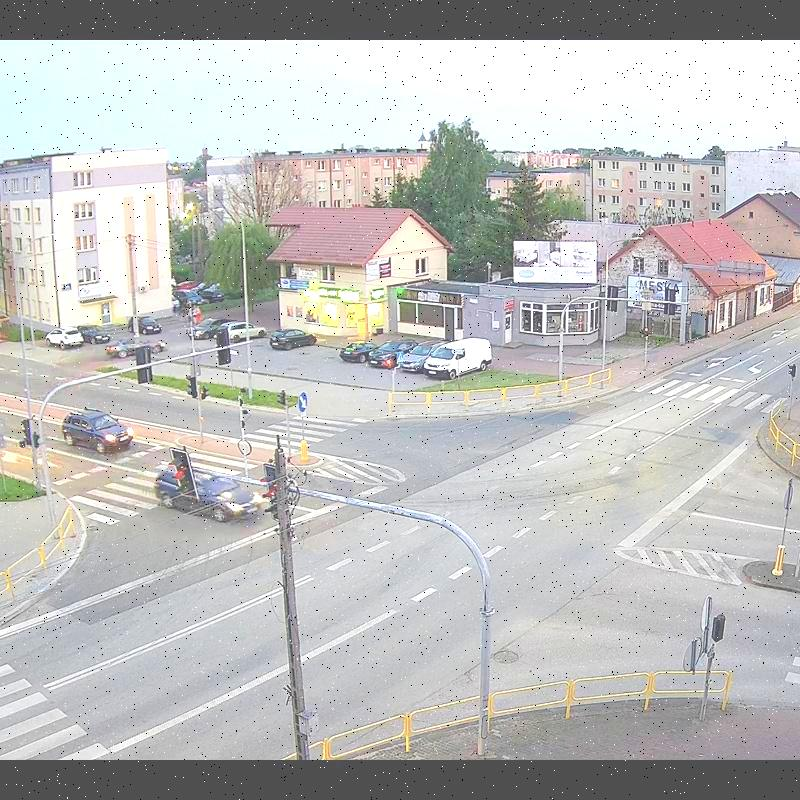car: (156, 465, 261, 520), (62, 406, 136, 458), (423, 334, 492, 378), (398, 338, 443, 374), (368, 336, 416, 368), (218, 317, 267, 346), (107, 336, 167, 358), (272, 326, 318, 350), (43, 327, 86, 352), (0, 412, 26, 451), (185, 319, 232, 340), (127, 313, 166, 336), (75, 322, 113, 344), (340, 341, 376, 364), (0, 334, 14, 355), (0, 306, 8, 323), (0, 295, 12, 306)
